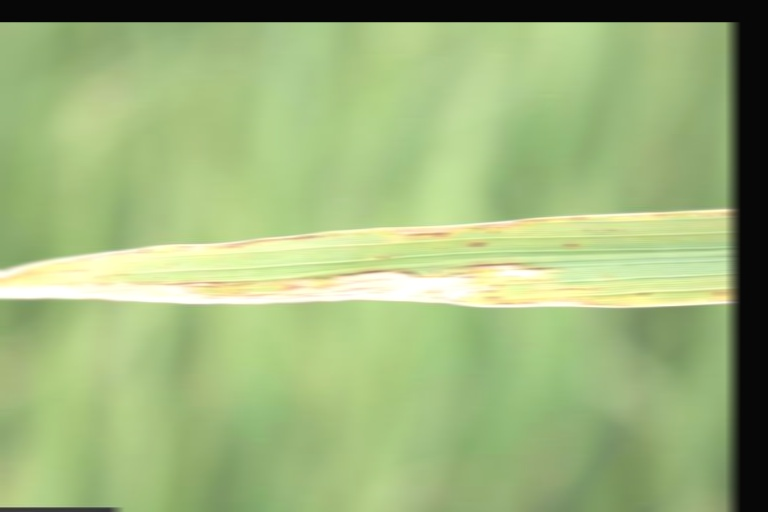Leaf_Blast: (104, 205, 732, 264), (0, 259, 628, 314)
